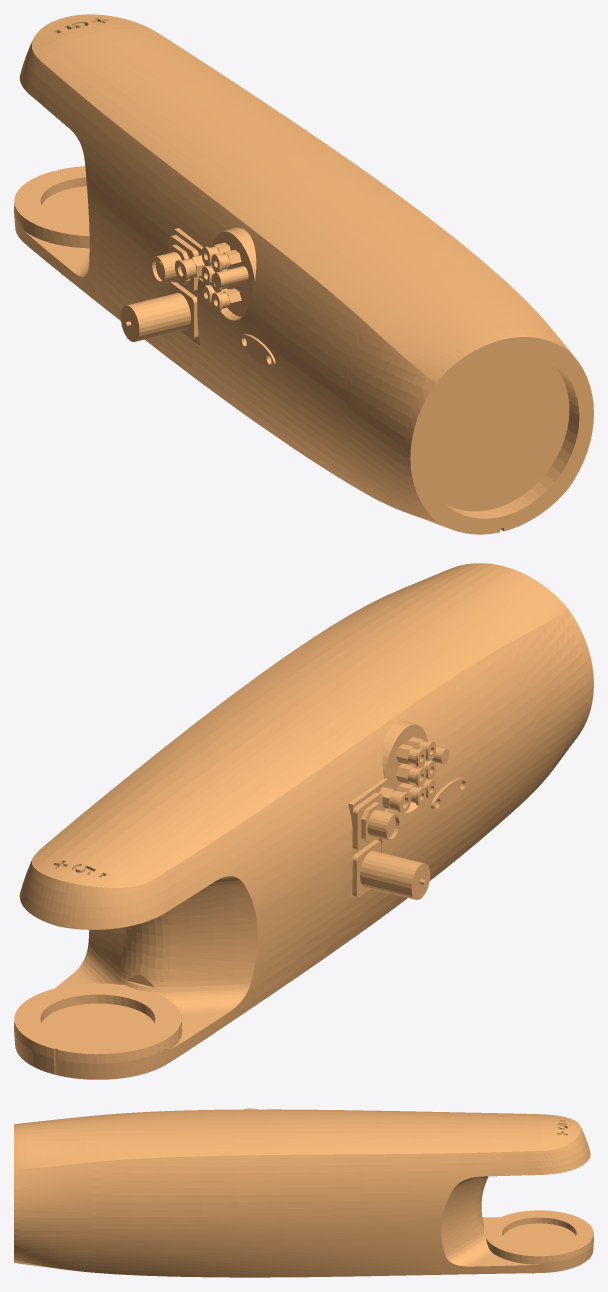
File: KukaKR4Link4.dae
3 renders of one model, top to bottom at view 1: azimuth 30°, elevation 25°; view 2: azimuth 150°, elevation 25°; view 3: azimuth 270°, elevation 25°, orthographic. The views are drawn at different scales.
Parts seen in each view (by area): view 1: KR4Link4; view 2: KR4Link4; view 3: KR4Link4.
Boxes of the visible parts, left/top/right/bottom form: KR4Link4: left=14, top=14, right=593, bottom=534; KR4Link4: left=14, top=563, right=593, bottom=1079; KR4Link4: left=14, top=1108, right=593, bottom=1277.
Bounding box in the file's own units: 0.0713 × 0.2252 × 0.0596.
